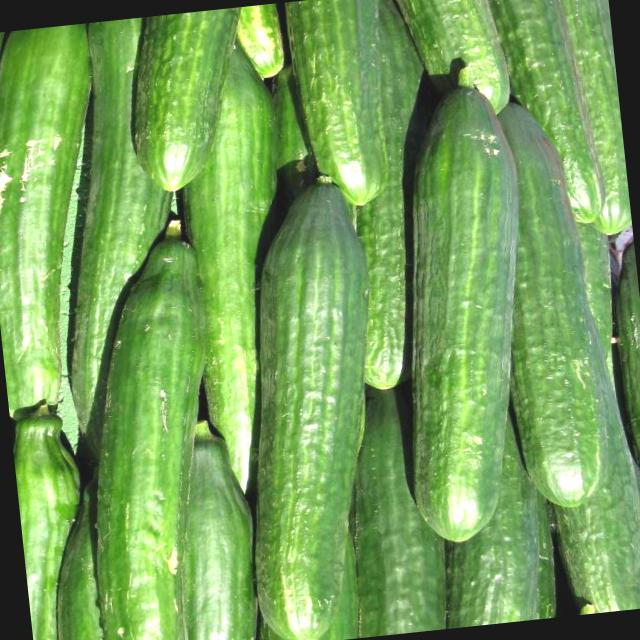Cucumber: (219, 180, 398, 632), (382, 87, 549, 531), (60, 240, 240, 640), (35, 21, 204, 438), (165, 39, 308, 468), (484, 94, 618, 508), (0, 27, 124, 424), (330, 25, 448, 380), (529, 325, 640, 614), (424, 404, 554, 628), (122, 6, 276, 192), (333, 386, 447, 632), (479, 0, 600, 215), (165, 420, 264, 640), (286, 0, 393, 201)
